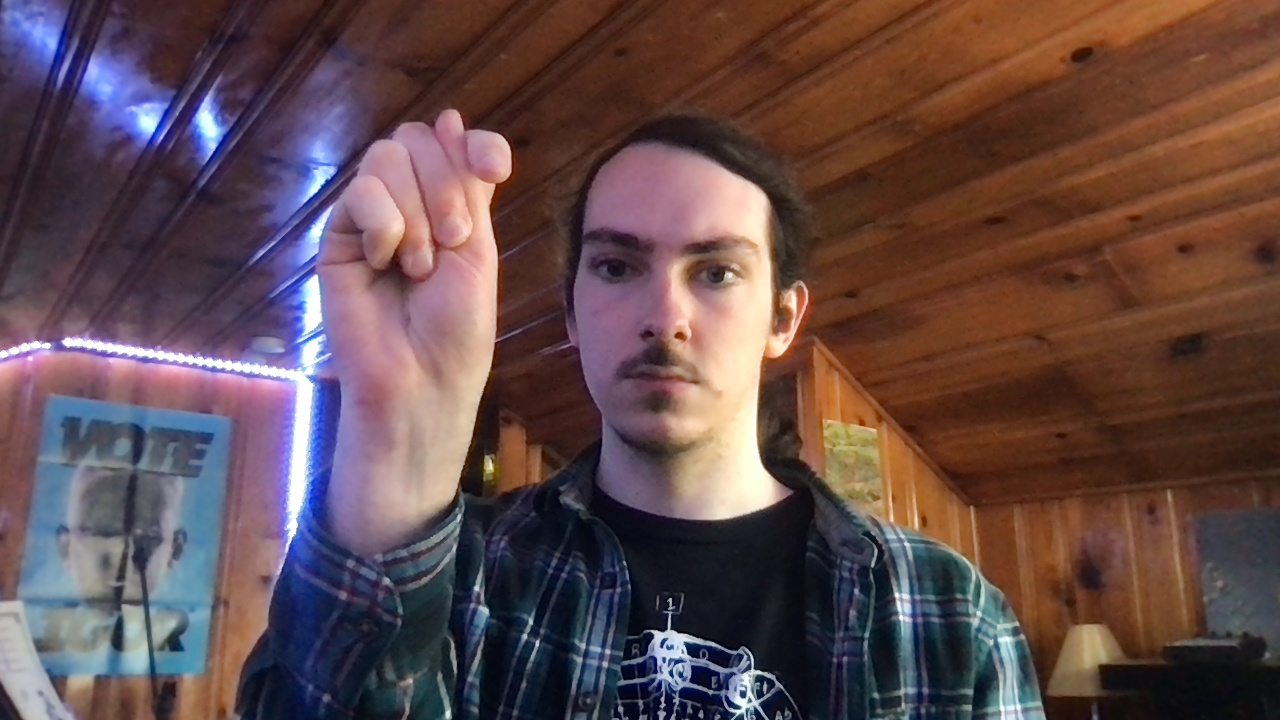t: (314, 106, 516, 405)
